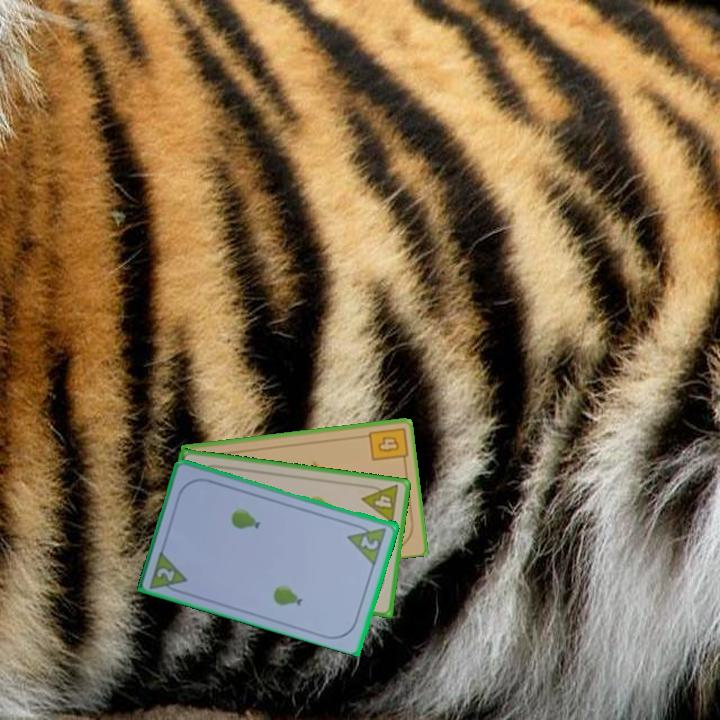2p: (345, 519, 390, 567), (153, 564, 178, 584)
4b: (364, 424, 409, 466)
4p: (359, 481, 402, 526)
